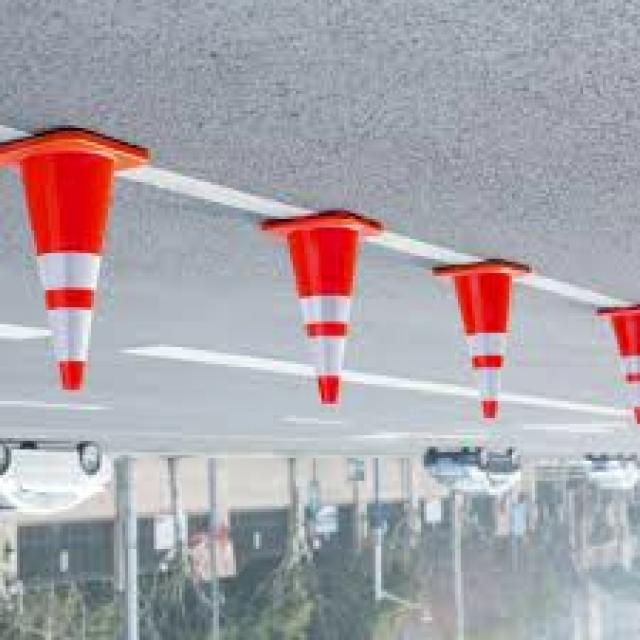cone: (2, 127, 149, 396), (270, 203, 392, 425), (436, 255, 532, 423), (599, 312, 640, 431)
